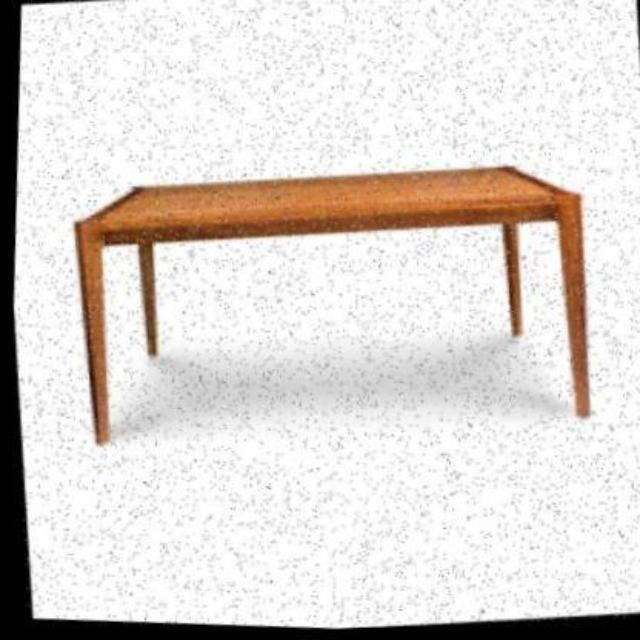table: (85, 163, 583, 445)
